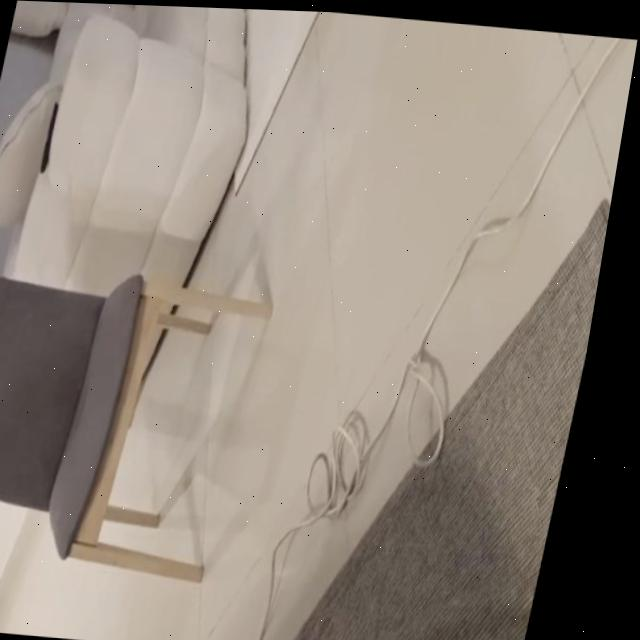sandalye: (0, 273, 281, 580)
